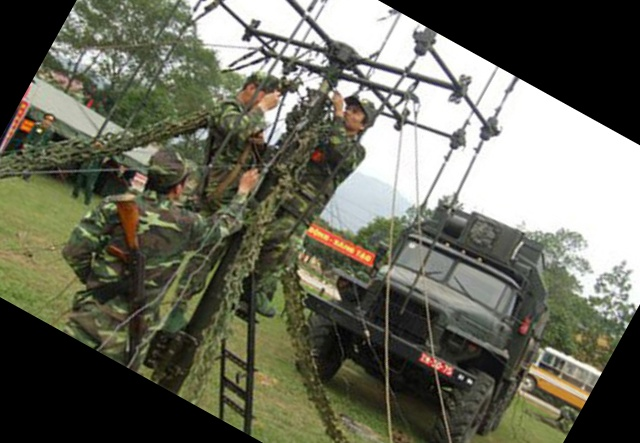plate: (419, 347, 457, 380)
